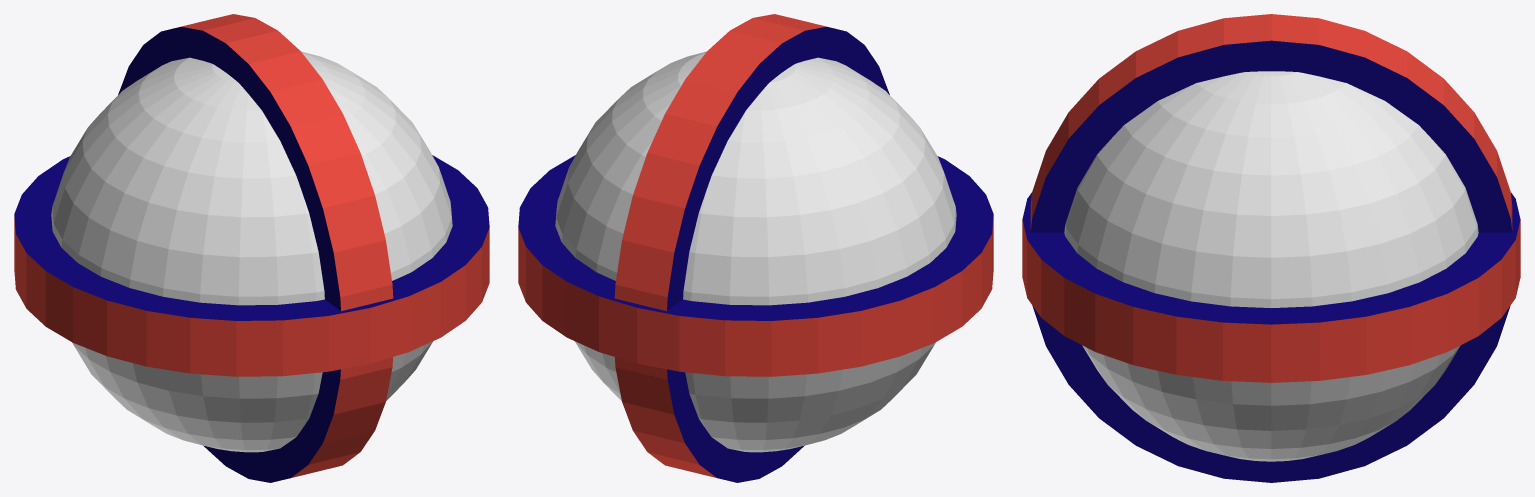
The model's file is pillStation.fbx.
3 renders of one model, left to right at view 1: azimuth 30°, elevation 25°; view 2: azimuth 150°, elevation 25°; view 3: azimuth 270°, elevation 25°, orthographic. The views are drawn at different scales.
Parts seen in each view (by area): view 1: Cube; view 2: Cube; view 3: Cube.
Boxes of the visible parts, x1,y1,x2,y2 form: Cube: (14, 14, 489, 482); Cube: (518, 14, 993, 482); Cube: (1022, 14, 1520, 482).
Size of the model in its own units: 233 by 229 by 233.
